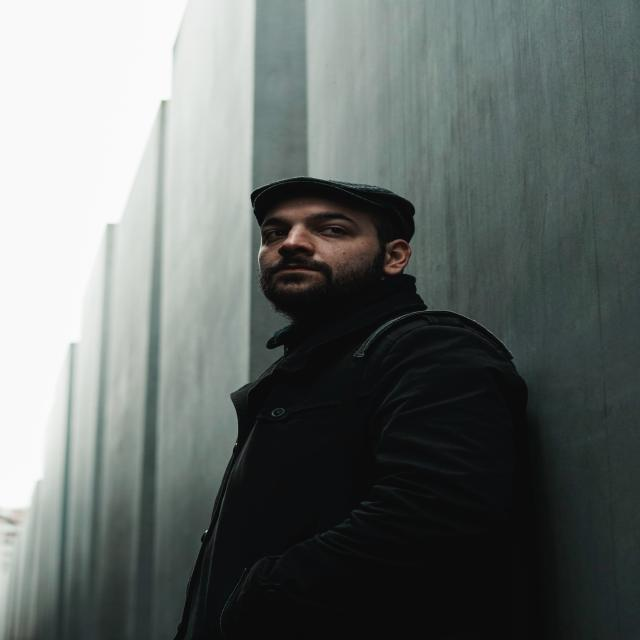adult: (184, 176, 532, 640)
